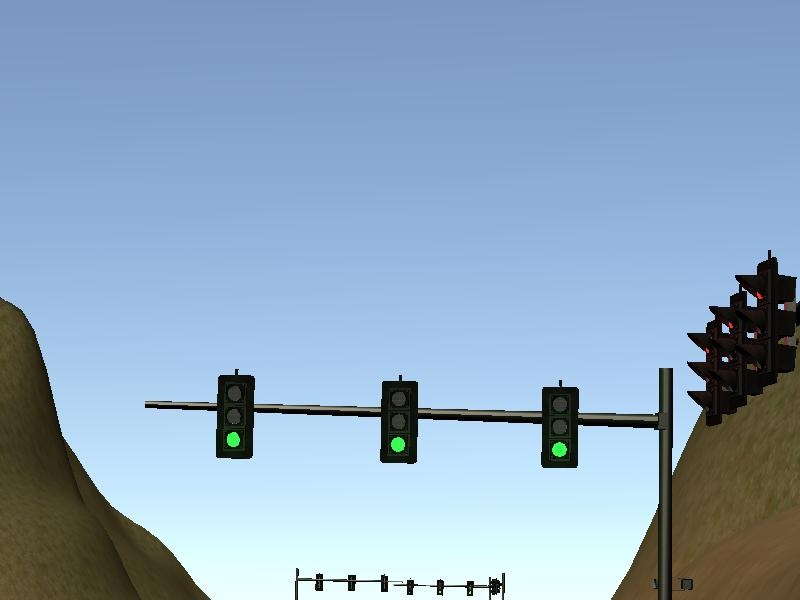green: (210, 367, 258, 462), (538, 381, 584, 472), (379, 376, 422, 469)
